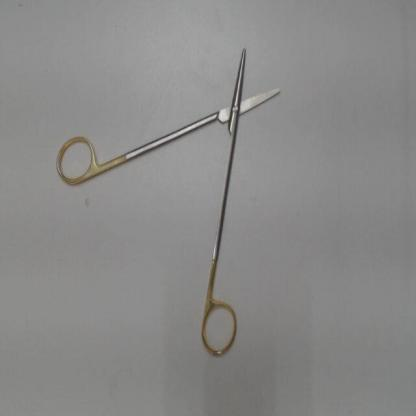7 Metzenbaum Scissors: (54, 38, 286, 365)
